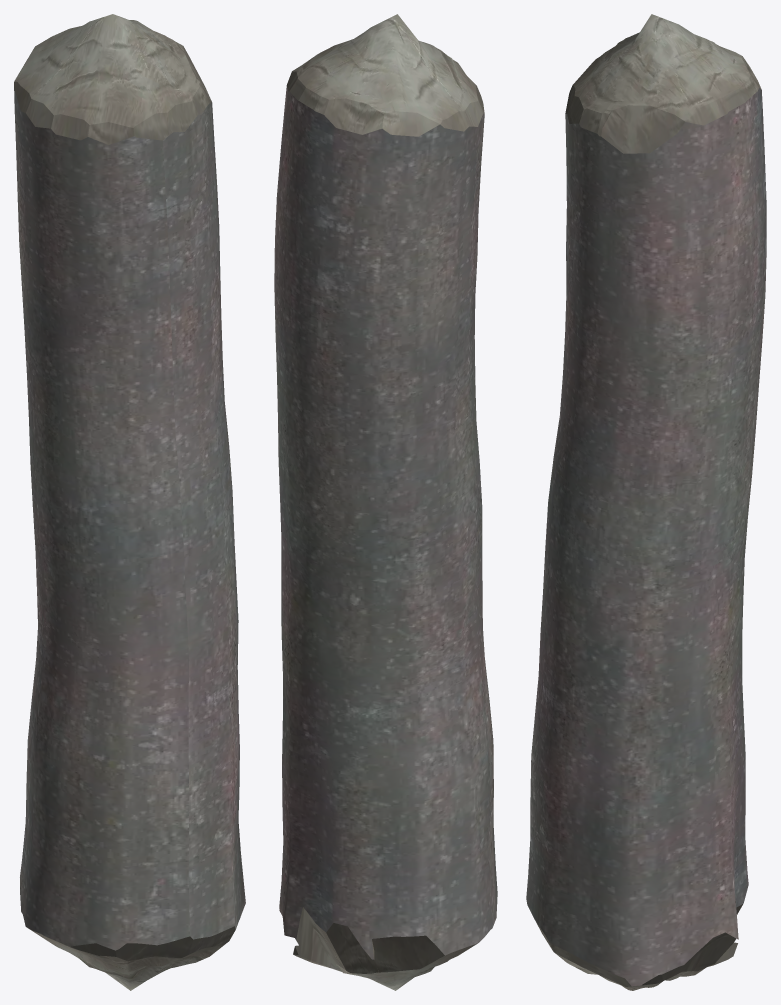
3 renders of one model, left to right at view 1: azimuth 30°, elevation 25°; view 2: azimuth 150°, elevation 25°; view 3: azimuth 270°, elevation 25°, orthographic.
Parts seen in each view (by area): view 1: SM_GF_Ash_Tree_01_quarter_01_LOD0; view 2: SM_GF_Ash_Tree_01_quarter_01_LOD0; view 3: SM_GF_Ash_Tree_01_quarter_01_LOD0.
Part boxes in pixels (x1=…): SM_GF_Ash_Tree_01_quarter_01_LOD0: x1=14, y1=14, x2=245, y2=990; SM_GF_Ash_Tree_01_quarter_01_LOD0: x1=274, y1=14, x2=497, y2=990; SM_GF_Ash_Tree_01_quarter_01_LOD0: x1=526, y1=14, x2=766, y2=990.
Bounding box in the file's own units: 0.558 × 2.55 × 0.5727.
Materials: 1 (1 with a texture image).
